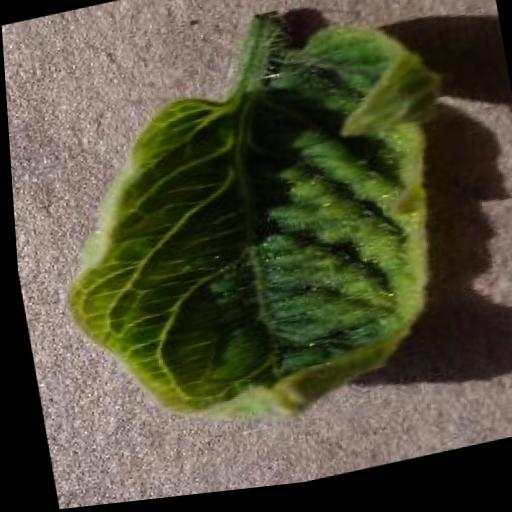Yellow Leaf Curl Virus: (25, 9, 489, 470)
